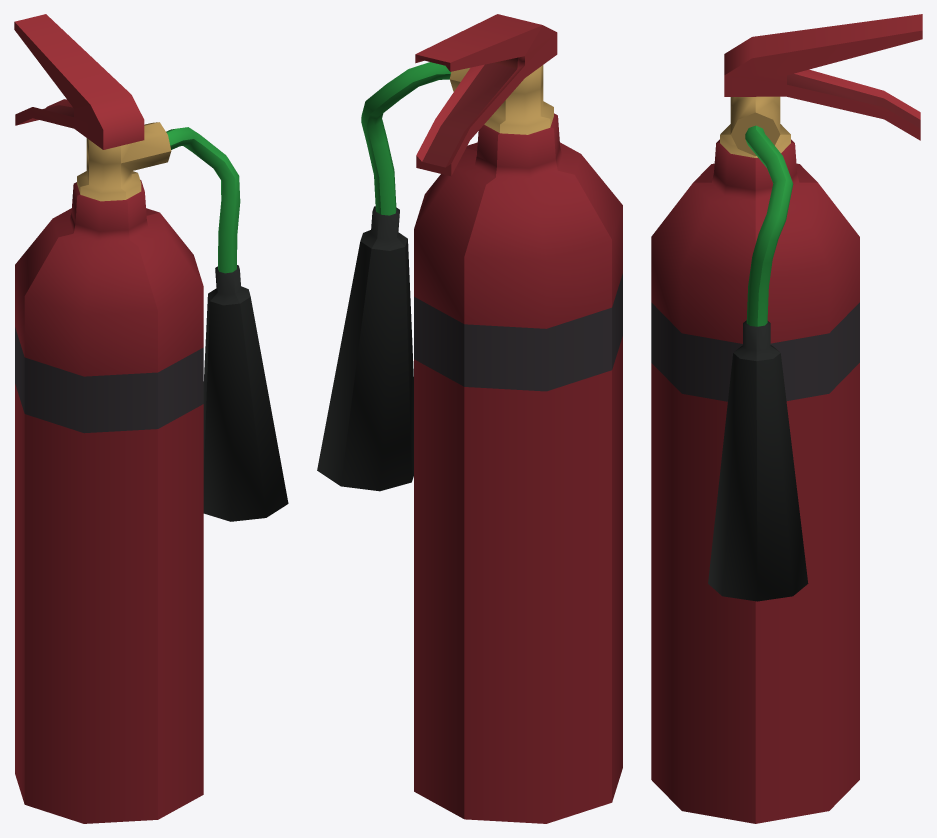
The model's file is FireExtinguisher-Small_01.fbx.
3 views of the same model, side by side, from view 1: azimuth 30°, elevation 25°; view 2: azimuth 150°, elevation 25°; view 3: azimuth 270°, elevation 25° (orthographic). The views are drawn at different scales.
Visible parts, largest first — view 1: Fire_Extinguisher_Small; view 2: Fire_Extinguisher_Small; view 3: Fire_Extinguisher_Small.
Part boxes in pixels (x1=…): Fire_Extinguisher_Small: x1=14, y1=14, x2=288, y2=823; Fire_Extinguisher_Small: x1=317, y1=14, x2=622, y2=823; Fire_Extinguisher_Small: x1=651, y1=14, x2=922, y2=823.
Size of the model in its own units: 0.2156 by 0.5607 by 0.1822.
